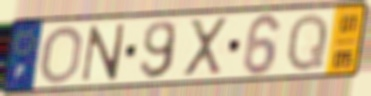6: (240, 12, 283, 78)
9: (138, 19, 179, 81)
N: (78, 22, 128, 84)
O: (37, 23, 85, 86)
Q: (284, 11, 331, 74)
X: (182, 15, 230, 80)
